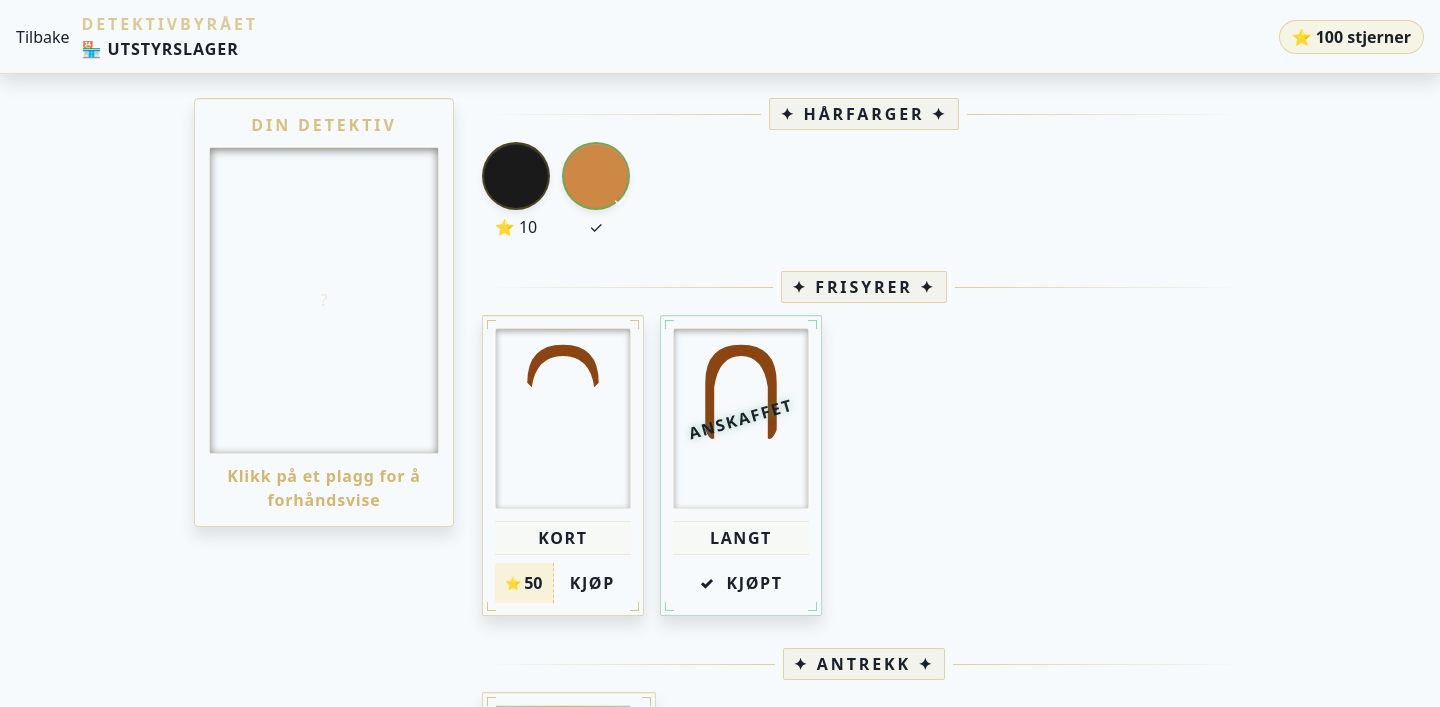
Test: ShopView › clicking Avbryt hides confirm buttons and restores ticket
Click the element with class "shop-ticket".
click(524, 583)  # box [495,563,631,603]
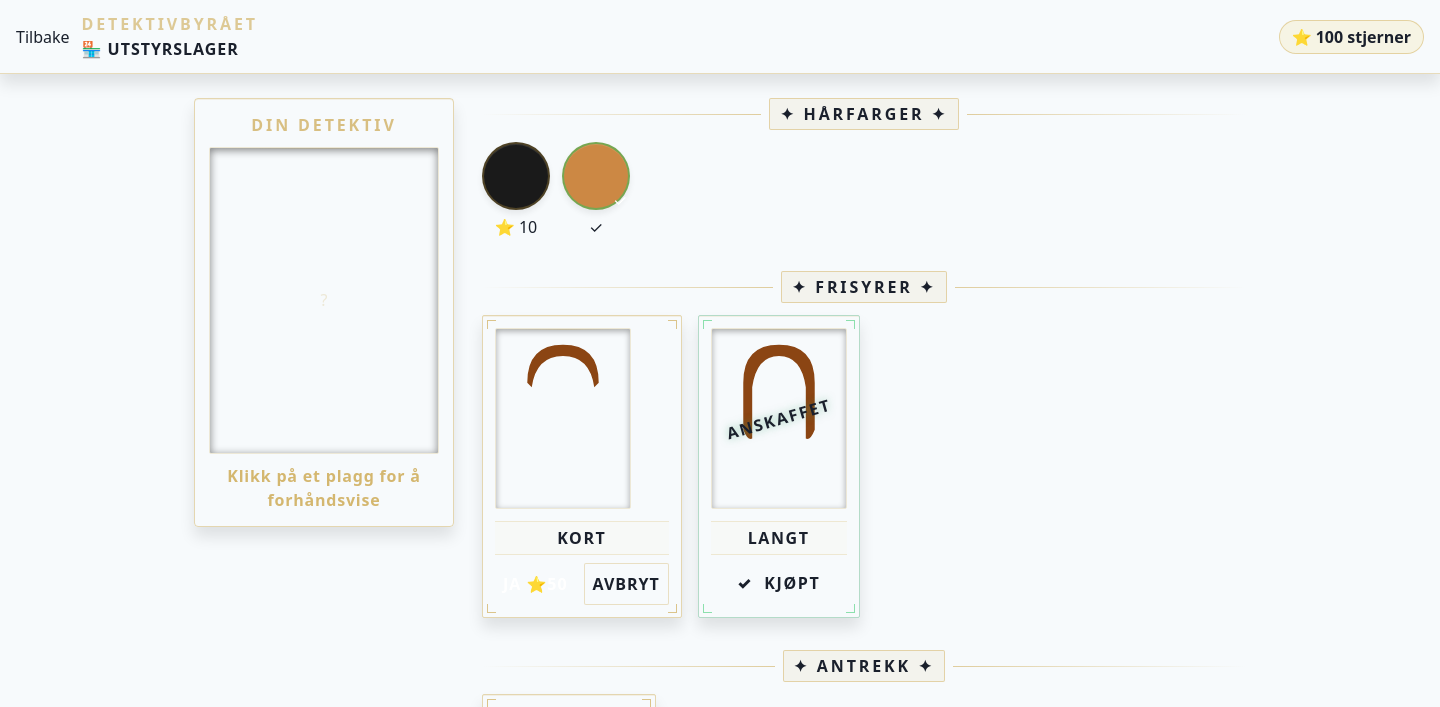
Click the button with class "shop-confirm__no".
click(626, 584)  # box [584,563,669,605]
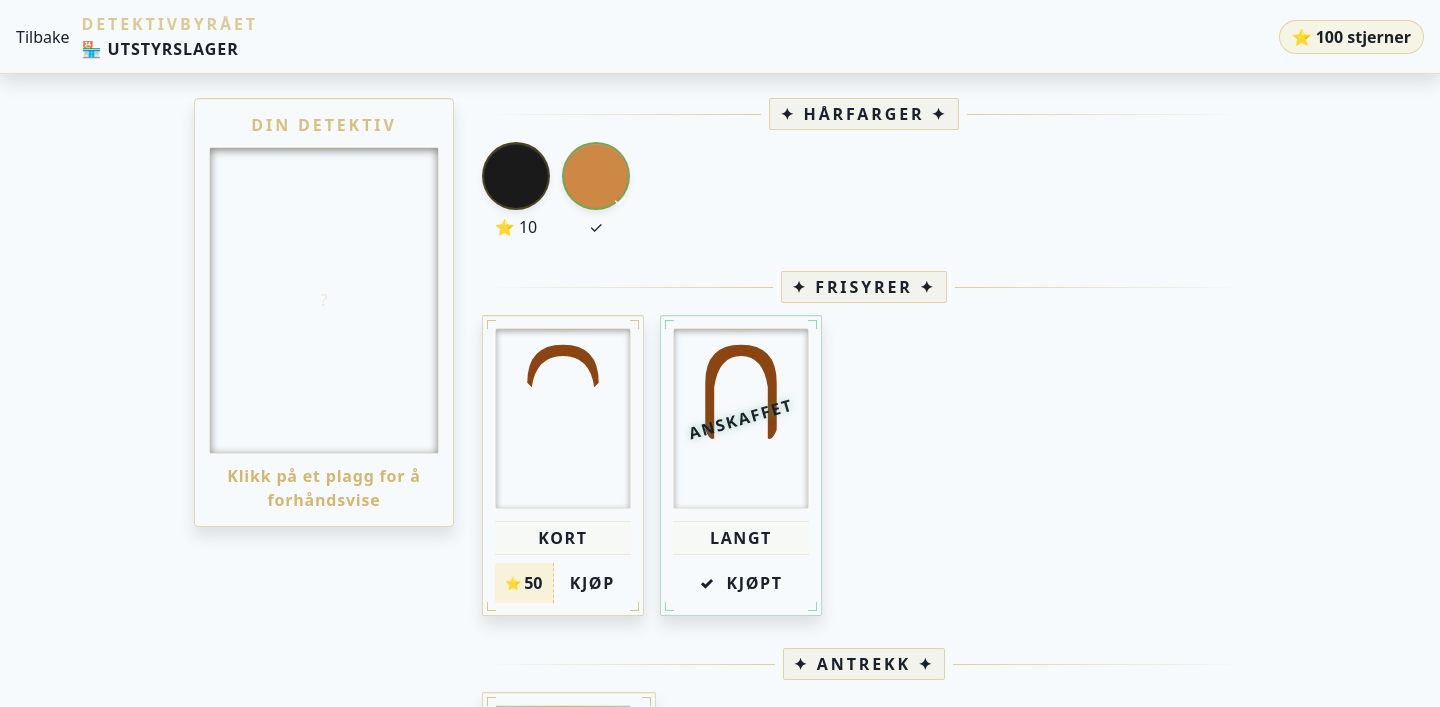
Check: the element with class "shop-ticket" is shown, box [495,563,631,603]
